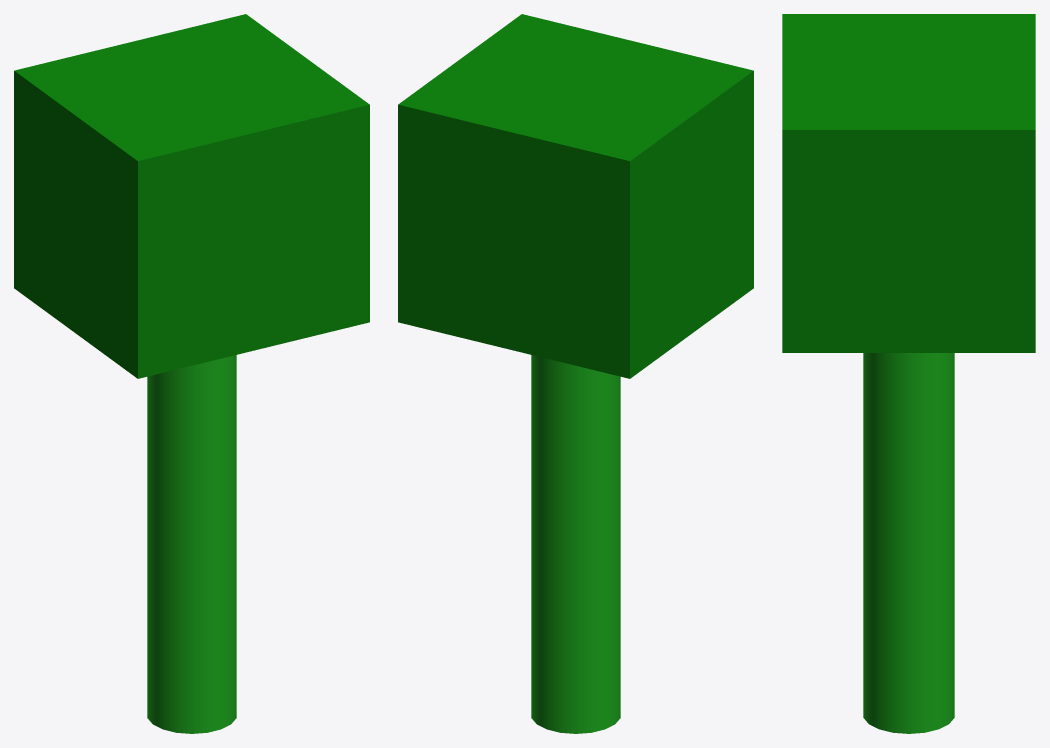
File: BranchLeaf.obj
3 renders of one model, left to right at view 1: azimuth 30°, elevation 25°; view 2: azimuth 150°, elevation 25°; view 3: azimuth 270°, elevation 25°, orthographic. The views are drawn at different scales.
Parts seen in each view (by area): view 1: Box001, Cylinder001; view 2: Box001, Cylinder001; view 3: Box001, Cylinder001.
Part boxes in pixels (x1=…): Box001: x1=14, y1=14, x2=369, y2=378; Cylinder001: x1=147, y1=355, x2=236, y2=733; Box001: x1=398, y1=14, x2=753, y2=378; Cylinder001: x1=531, y1=355, x2=620, y2=733; Box001: x1=782, y1=14, x2=1035, y2=352; Cylinder001: x1=863, y1=353, x2=954, y2=733.
Size of the model in its own units: 59.28 by 153 by 54.8.
